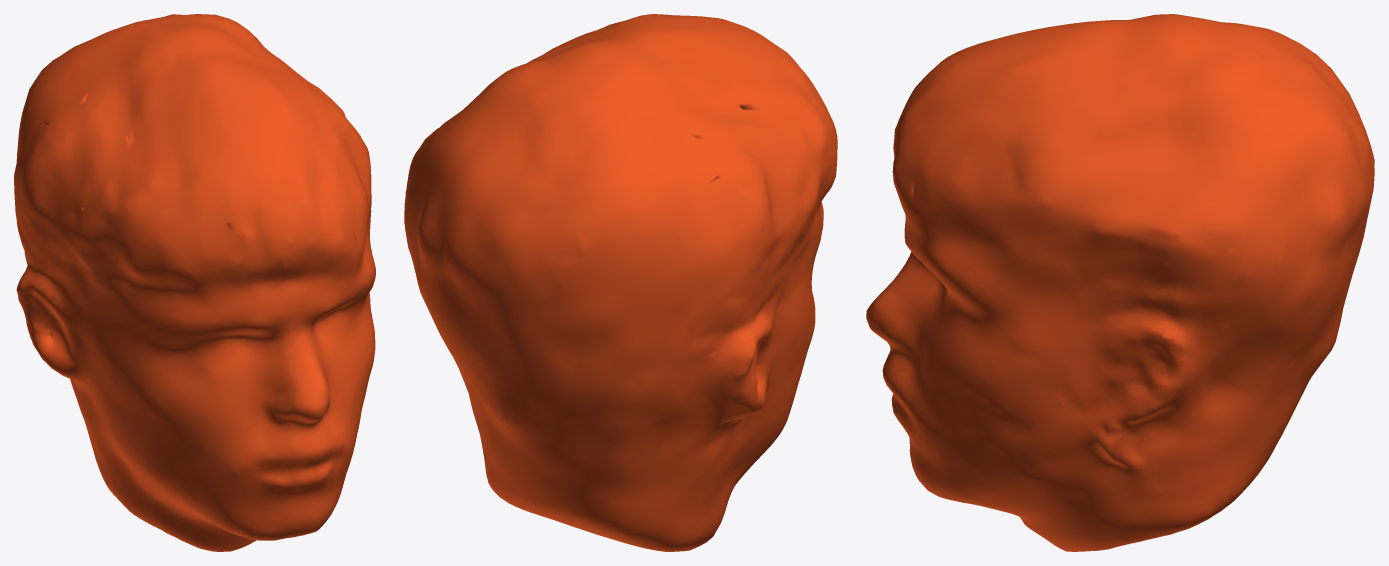
Rendered from 3DSCANCHROMEROUGHORANGE.glb.
3 renders of one model, left to right at view 1: azimuth 30°, elevation 25°; view 2: azimuth 150°, elevation 25°; view 3: azimuth 270°, elevation 25°, orthographic. The views are drawn at different scales.
Visible parts, largest first — view 1: moi tout simplement; view 2: moi tout simplement; view 3: moi tout simplement.
Part boxes in pixels (left/top/right/bottom): moi tout simplement: left=14, top=14, right=375, bottom=551; moi tout simplement: left=404, top=14, right=837, bottom=551; moi tout simplement: left=866, top=14, right=1374, bottom=551.
Bounding box in the file's own units: 1.41 × 2.08 × 1.83.
